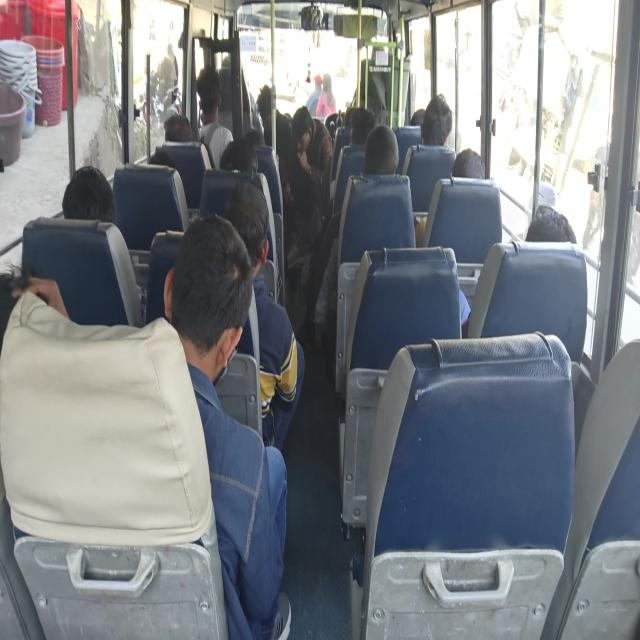person: (4, 214, 291, 639), (162, 214, 292, 638), (224, 178, 305, 450), (311, 124, 399, 333), (62, 164, 144, 324), (256, 84, 294, 201), (196, 65, 233, 169), (61, 165, 116, 223), (582, 143, 610, 249), (525, 206, 577, 243), (362, 124, 399, 175), (420, 94, 452, 147), (349, 106, 376, 144), (451, 148, 485, 178), (315, 72, 336, 117), (164, 114, 194, 142)
